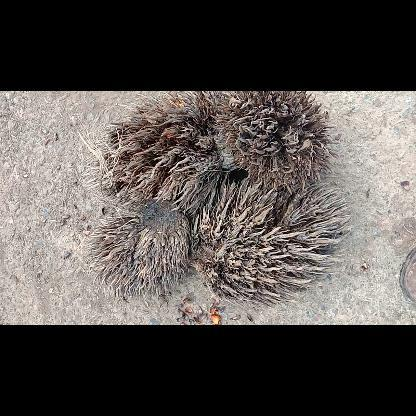Janjang kosong: (86, 90, 236, 214), (192, 184, 348, 302), (216, 91, 330, 189), (87, 200, 188, 296)
